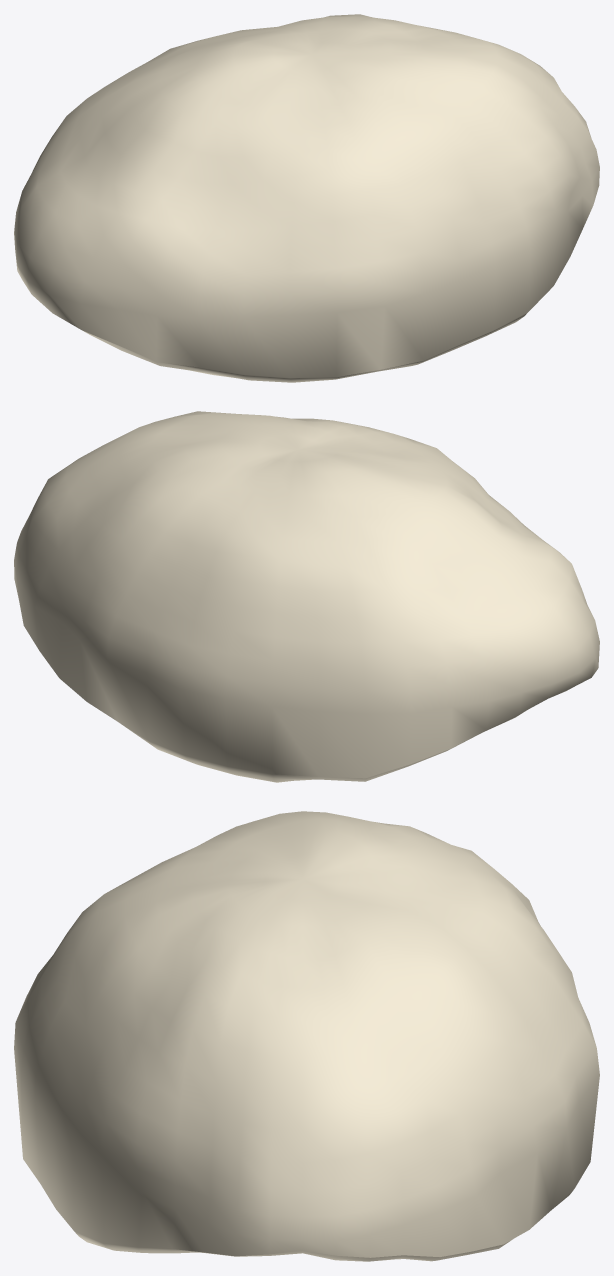
Rendered from cowrie_c1.glb.
3 renders of one model, top to bottom at view 1: azimuth 30°, elevation 25°; view 2: azimuth 150°, elevation 25°; view 3: azimuth 270°, elevation 25°, orthographic. The views are drawn at different scales.
Parts seen in each view (by area): view 1: cowrie_c1; view 2: cowrie_c1; view 3: cowrie_c1.
Part boxes in pixels (x1,y1,x2,y2): cowrie_c1: (14,14,599,382); cowrie_c1: (14,411,599,782); cowrie_c1: (14,811,599,1261).
Bounding box in the file's own units: 0.0221 × 0.00977 × 0.0161.
